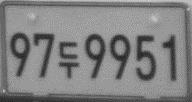1: (162, 33, 177, 82)
5: (135, 34, 156, 81)
7: (33, 32, 54, 79)
9: (83, 31, 106, 80), (8, 31, 31, 79), (108, 33, 131, 80)
두: (56, 39, 80, 79)
